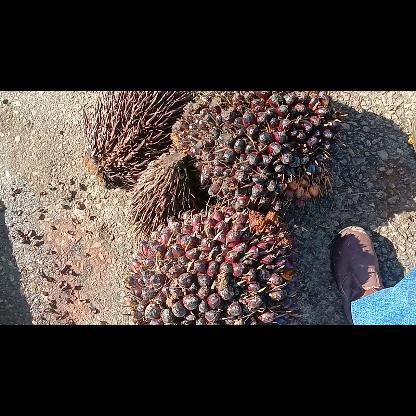Janjang kosong: (80, 90, 186, 188), (126, 152, 194, 240)
TBS mentah: (122, 198, 304, 324), (171, 91, 342, 209)
